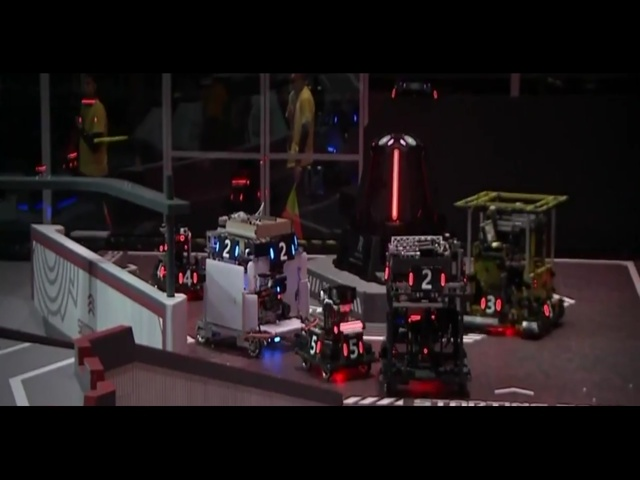bestBluePlate: (258, 192, 305, 239)
bestRedPlate: (283, 297, 339, 353)
bluePlate: (143, 293, 183, 333), (369, 350, 409, 390), (255, 120, 290, 155)
